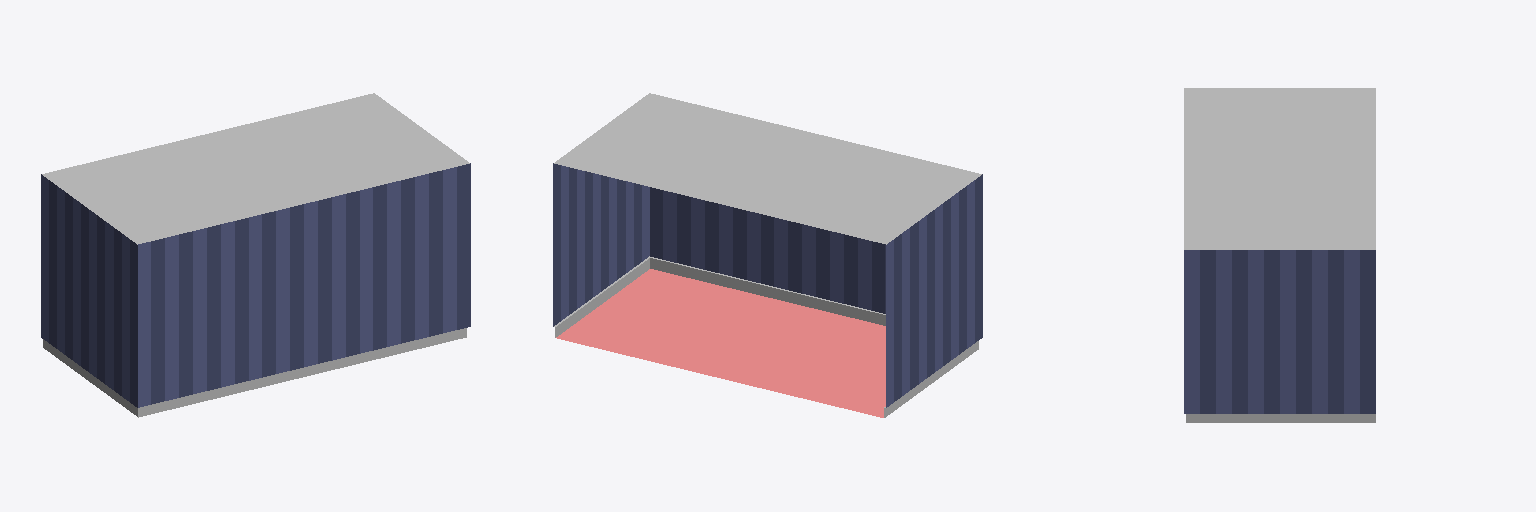
The picture shows the model from 3 angles: view 1: azimuth 30°, elevation 25°; view 2: azimuth 150°, elevation 25°; view 3: azimuth 270°, elevation 25°; orthographic projection.
Visible parts, largest first — view 1: Wall_(4); view 2: Wall_(4); view 3: Wall_(4).
Part boxes in pixels (left/top/right/bottom): Wall_(4): left=41, top=93, right=470, bottom=417; Wall_(4): left=553, top=93, right=982, bottom=417; Wall_(4): left=1184, top=88, right=1375, bottom=422.
Size of the model in its own units: 16 by 8 by 8.
Materials: 3 (1 with a texture image).